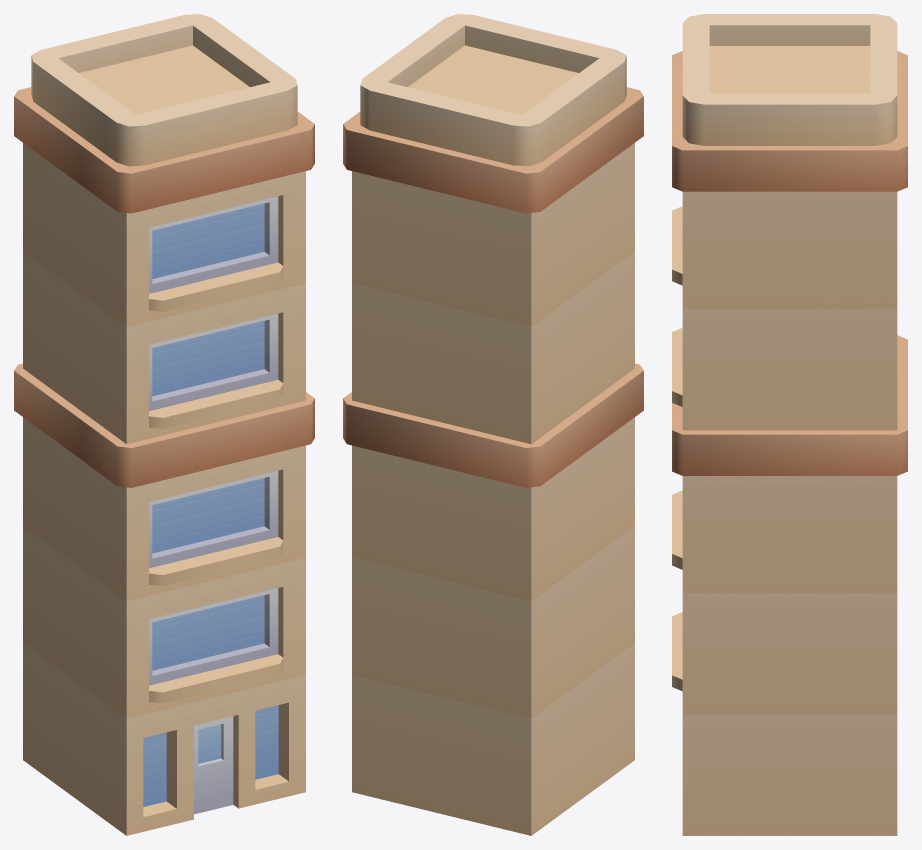
File: building-sample-tower-d.glb
3 views of the same model, side by side, from view 1: azimuth 30°, elevation 25°; view 2: azimuth 150°, elevation 25°; view 3: azimuth 270°, elevation 25° (orthographic). The views are drawn at different scales.
Visible parts, largest first — view 1: building-sample-tower-d; view 2: building-sample-tower-d; view 3: building-sample-tower-d.
Part boxes in pixels (<box>): building-sample-tower-d: <box>14,14,314,835</box>; building-sample-tower-d: <box>343,14,643,835</box>; building-sample-tower-d: <box>672,14,907,835</box>.
Bounding box in the file's own units: 1.1 × 3.76 × 1.1.
1 material, 1 textured.
